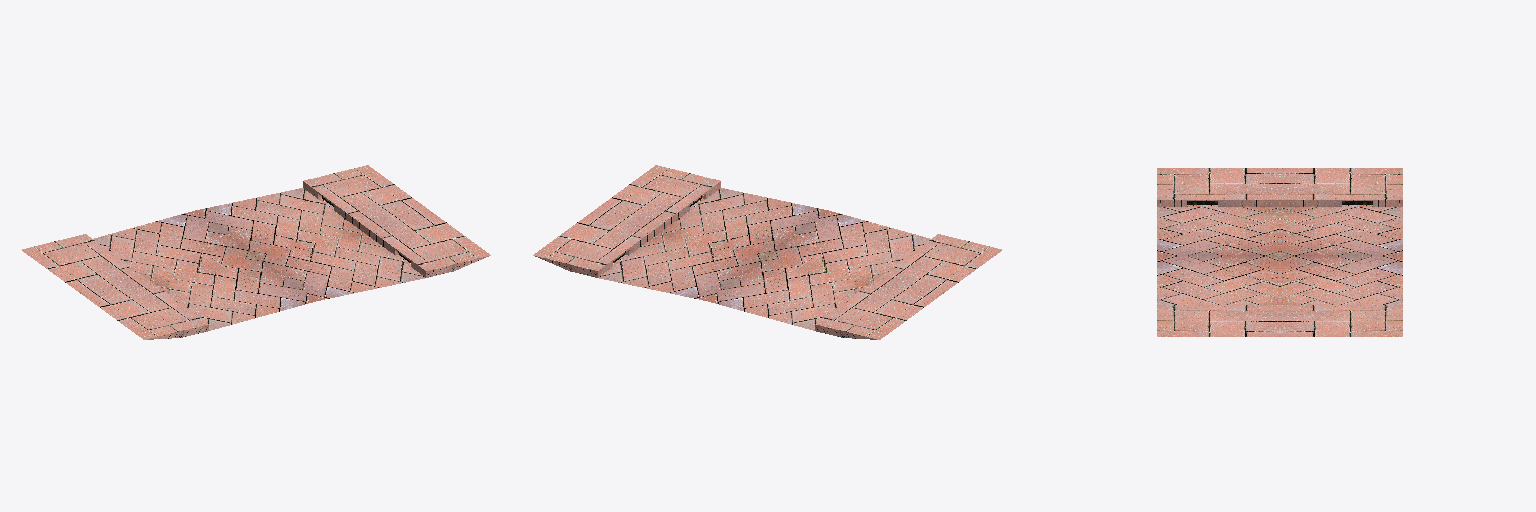
The picture shows the model from 3 angles: view 1: azimuth 30°, elevation 25°; view 2: azimuth 150°, elevation 25°; view 3: azimuth 270°, elevation 25°; orthographic projection.
Parts seen in each view (by area): view 1: Plane_Plane.001; view 2: Plane_Plane.001; view 3: Plane_Plane.001.
Boxes of the visible parts, x1,y1,x2,y2 form: Plane_Plane.001: [22, 165, 490, 339]; Plane_Plane.001: [533, 165, 1001, 339]; Plane_Plane.001: [1157, 168, 1402, 336].
Bounding box in the file's own units: 19.61 × 0.3735 × 12.07.
1 materials, 1 textured.